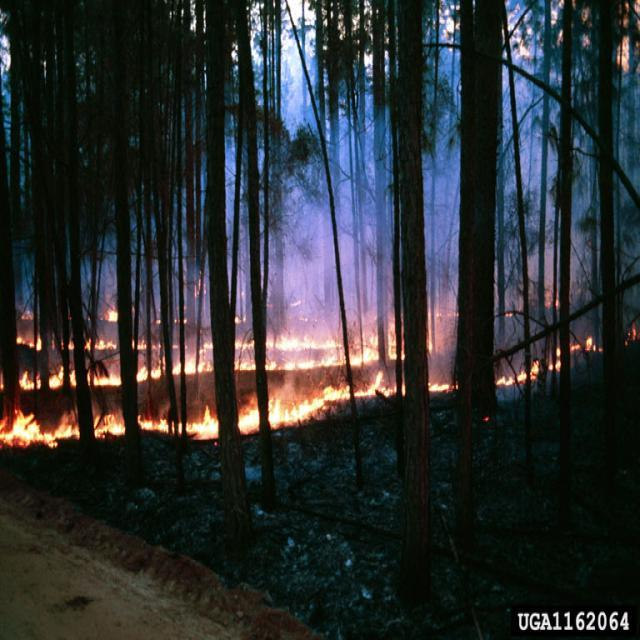Fire: (0, 306, 405, 450), (496, 337, 602, 388), (428, 380, 458, 396)
